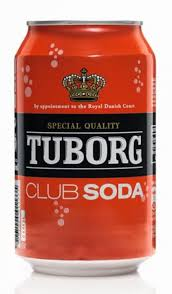can: (12, 18, 159, 281)
